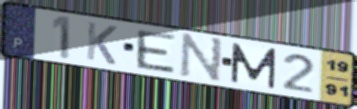1: (51, 14, 72, 62)
2: (281, 52, 317, 95)
E: (134, 28, 178, 75)
K: (83, 20, 119, 67)
M: (229, 41, 279, 91)
N: (177, 32, 226, 85)
